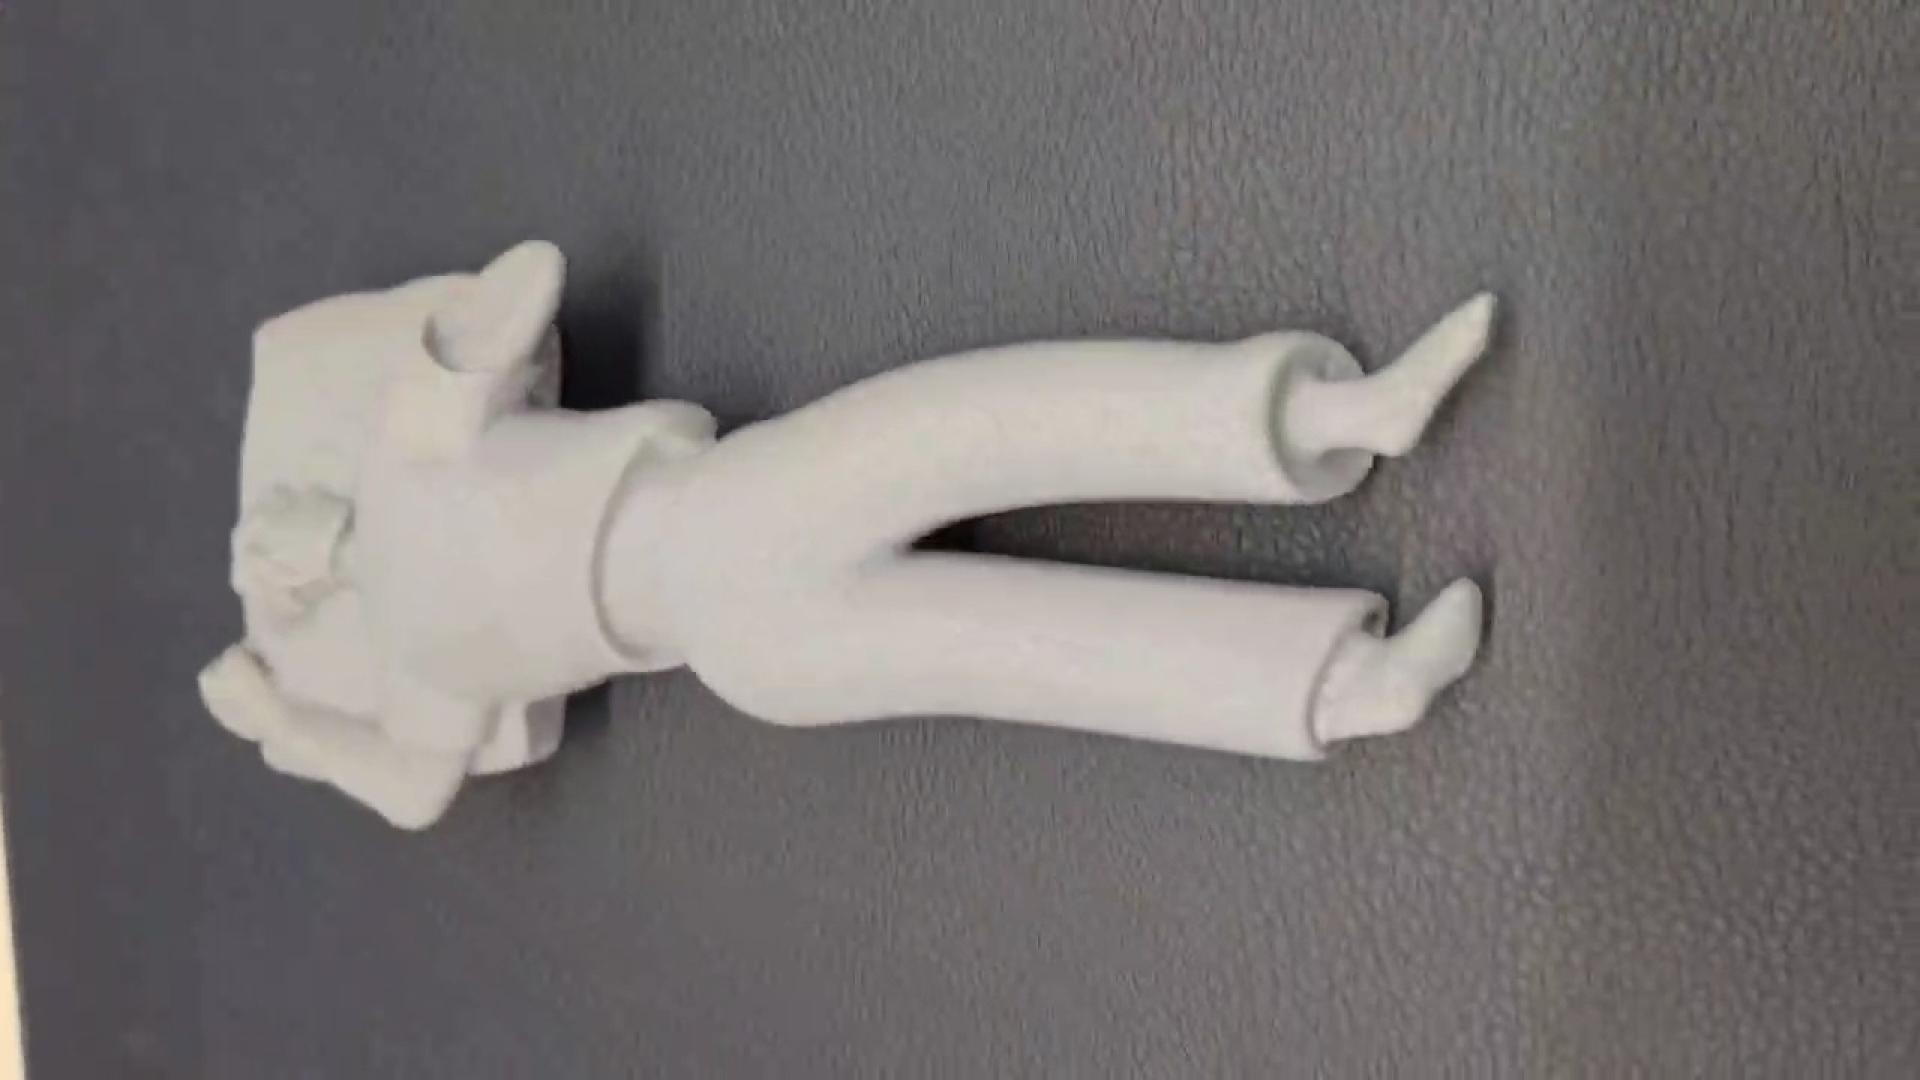Bad-style: (173, 262, 1523, 840)
